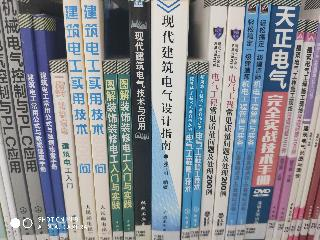book-spine: (238, 0, 301, 240), (0, 0, 49, 240), (273, 19, 317, 240), (265, 19, 307, 240), (19, 13, 59, 240), (234, 0, 271, 240), (208, 1, 245, 240), (152, 1, 188, 240), (280, 28, 320, 240), (63, 0, 98, 240), (224, 0, 259, 240), (195, 1, 228, 240), (33, 14, 67, 240), (82, 0, 112, 240), (50, 61, 82, 240), (129, 1, 150, 239), (104, 62, 123, 239), (190, 62, 208, 240), (180, 61, 197, 239), (118, 62, 134, 239)
